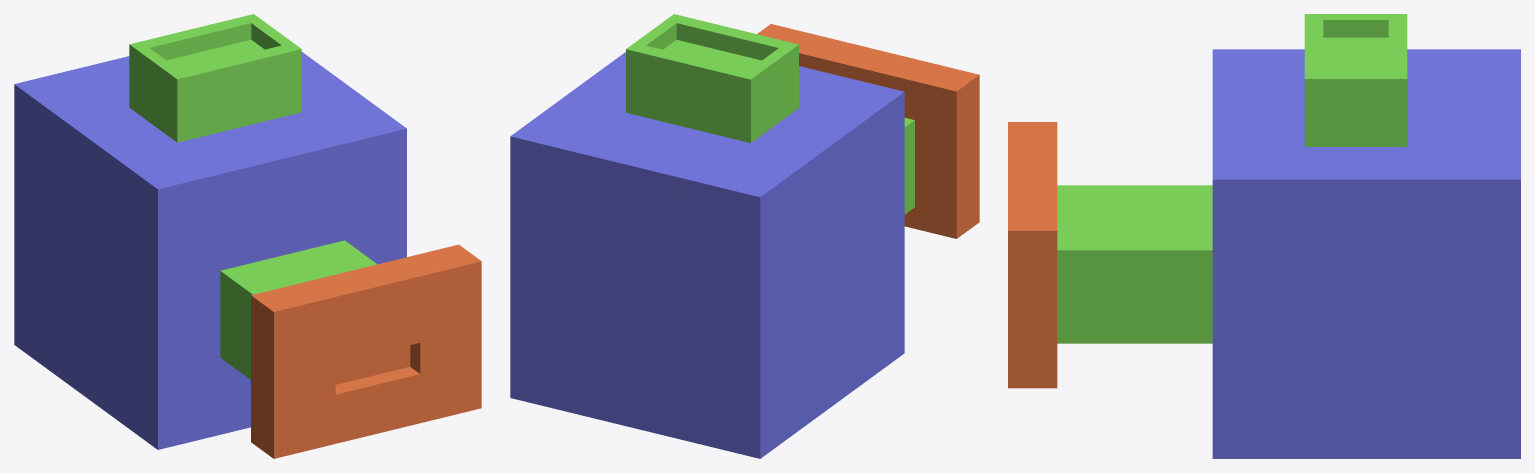
Rendered from torreta.fbx.
3 views of the same model, side by side, from view 1: azimuth 30°, elevation 25°; view 2: azimuth 150°, elevation 25°; view 3: azimuth 270°, elevation 25° (orthographic). The views are drawn at different scales.
Visible parts, largest first — view 1: Cube; view 2: Cube; view 3: Cube.
Part boxes in pixels (box(x1,y1,x2,y2)): Cube: box(14, 14, 481, 458); Cube: box(510, 14, 979, 458); Cube: box(1008, 14, 1520, 458).
Size of the model in its own units: 200 by 249 by 333.
